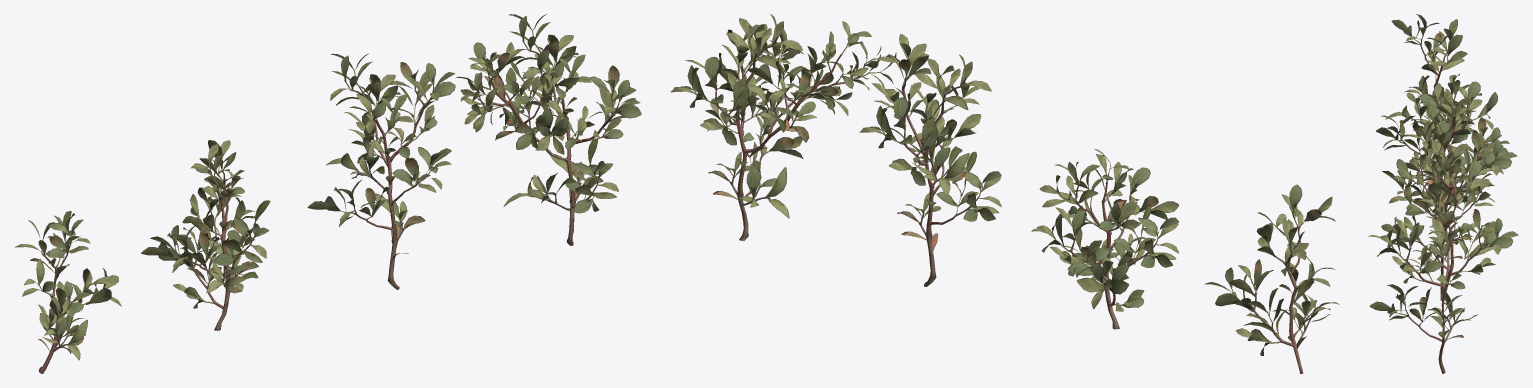
The model's file is shrub_04.glb.
The picture shows the model from 3 angles, left to right: view 1: azimuth 30°, elevation 25°; view 2: azimuth 150°, elevation 25°; view 3: azimuth 270°, elevation 25°; orthographic projection. The views are drawn at different scales.
Visible parts, largest first — view 1: shrub_04; view 2: shrub_04; view 3: shrub_04.
Part boxes in pixels (left/top/right/bottom): shrub_04: left=15, top=14, right=641, bottom=373; shrub_04: left=671, top=14, right=1339, bottom=373; shrub_04: left=1368, top=14, right=1518, bottom=373.
Bounding box in the file's own units: 0.5837 × 0.2192 × 0.1461.
1 material, 1 textured.
